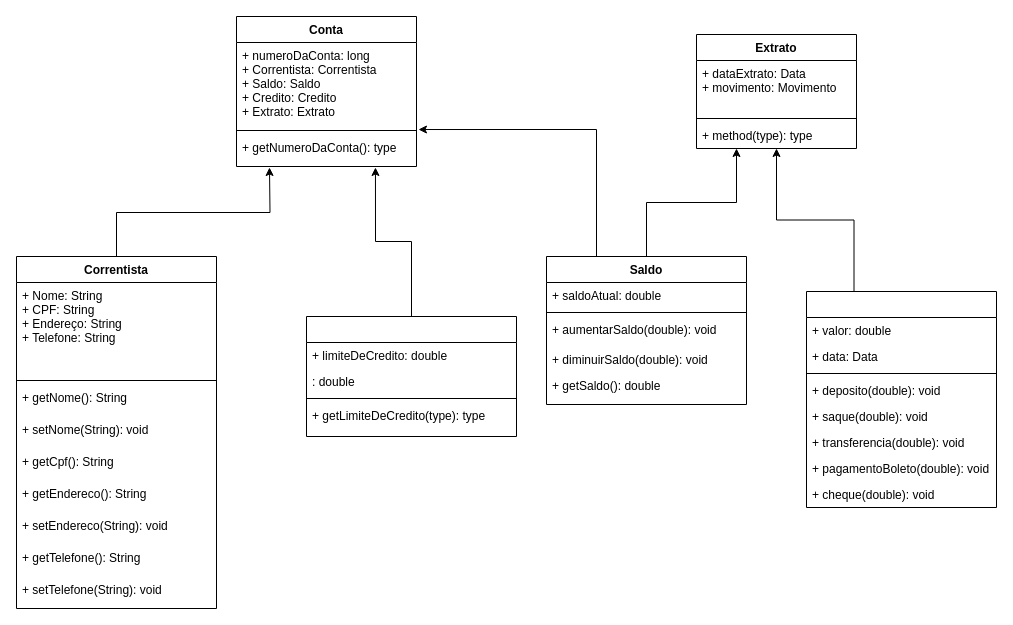
Image size: 1013x625. Some labels were removed from this diagram. Each missing label, with the box of its shape:
Crédito: (306, 316, 516, 436)
Movimento: (806, 290, 996, 508)
